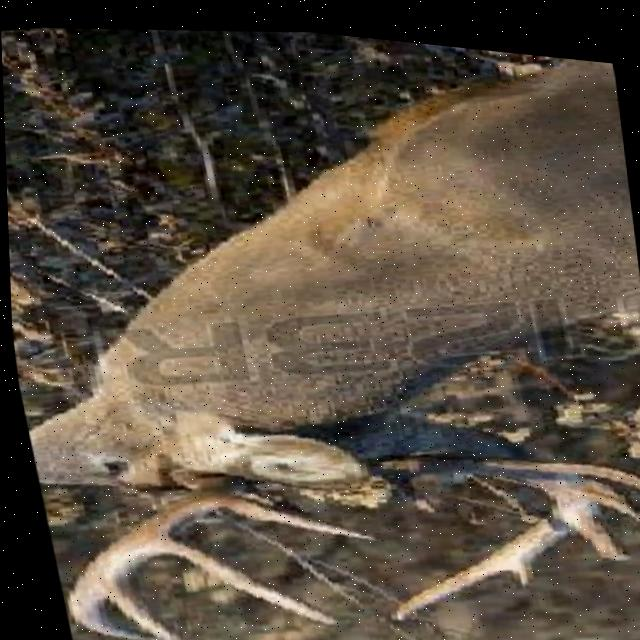L-F: (61, 482, 230, 638)
L-G1: (213, 484, 385, 537)
L-G2: (150, 526, 337, 621)
L-G3: (102, 577, 192, 640)
R-F: (366, 446, 594, 614)
R-G1: (405, 465, 461, 506)
R-G2: (566, 448, 640, 479)
R-G3: (593, 470, 640, 517)
R-G4: (567, 499, 633, 551)
R-G5: (505, 549, 531, 575)
